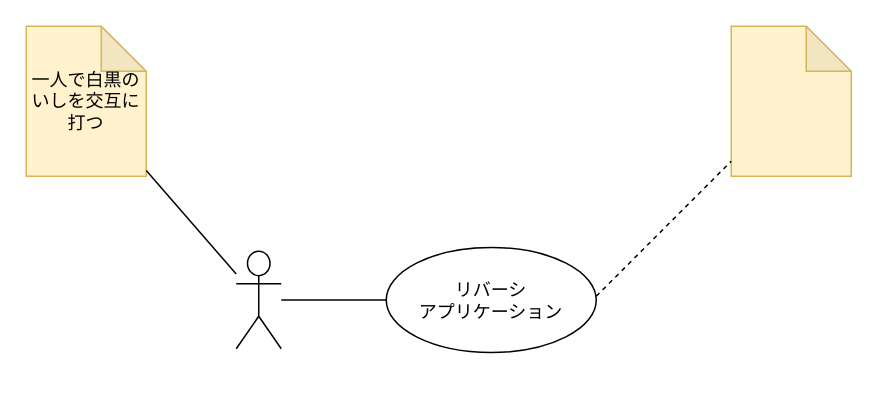
This 878x407 diagram has some shape labels left out. The shapes that lost their labels are listed below. From the top down, each one's box as (x1, y1, x2, y2) in pixels, then its label:
(730, 25, 851, 176): Web アプリ ケーション
(235, 250, 281, 349): プレイヤー
